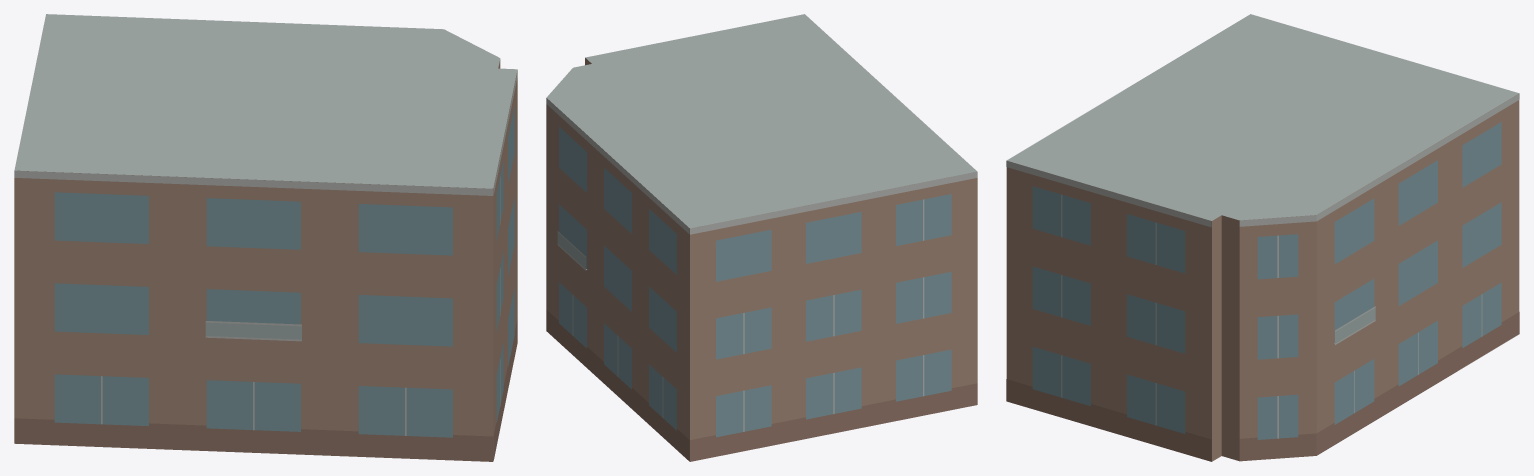
The model's file is survey-upis-32708081.glb.
The picture shows the model from 3 angles, left to right: view 1: azimuth 30°, elevation 25°; view 2: azimuth 150°, elevation 25°; view 3: azimuth 270°, elevation 25°; orthographic projection. The views are drawn at different scales.
Parts seen in each view (by area): view 1: survey-upis-32708081.tmp; view 2: survey-upis-32708081.tmp; view 3: survey-upis-32708081.tmp.
Part boxes in pixels (<box>): survey-upis-32708081.tmp: <box>14,14,517,461</box>; survey-upis-32708081.tmp: <box>546,14,977,461</box>; survey-upis-32708081.tmp: <box>1006,14,1519,461</box>.
Bounding box in the file's own units: 16.88 × 9.15 × 17.67.
